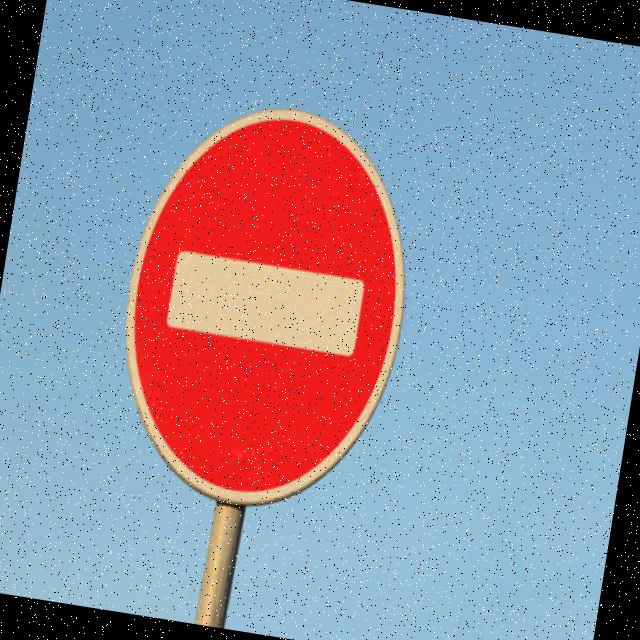do_not_enter: (89, 92, 438, 550)
